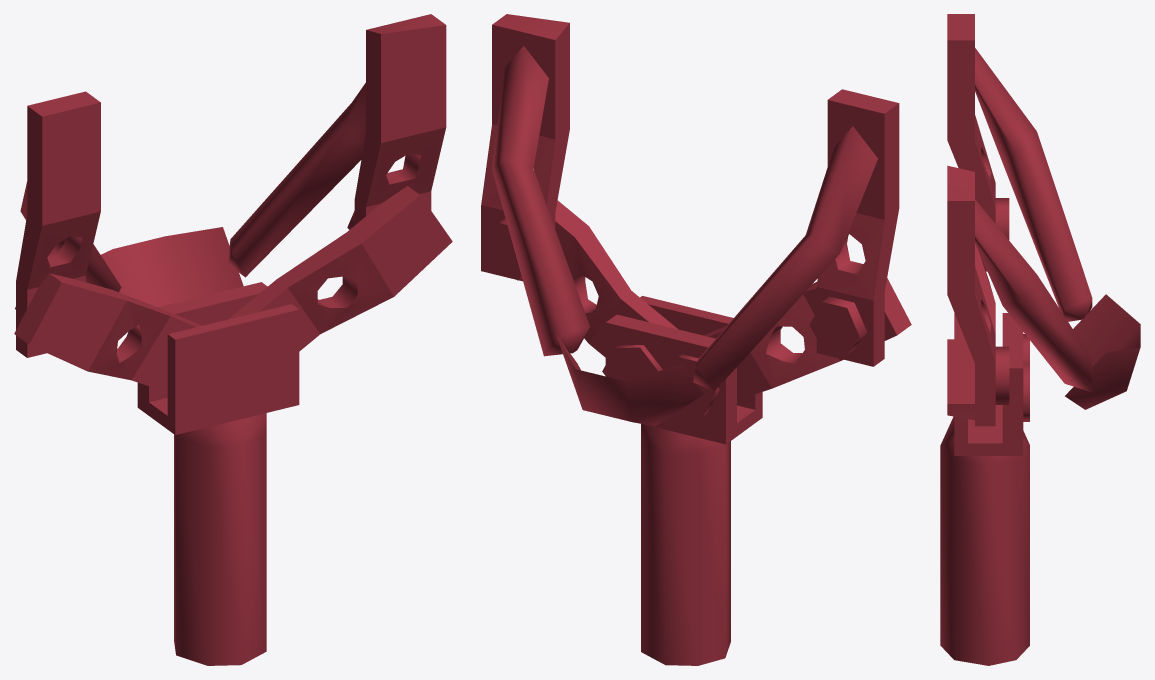
Rendered from slingshot.obj.
The picture shows the model from 3 angles, left to right: view 1: azimuth 30°, elevation 25°; view 2: azimuth 150°, elevation 25°; view 3: azimuth 270°, elevation 25°; orthographic projection. The views are drawn at different scales.
Visible parts, largest first — view 1: slingshot_Mesh_0536.002; view 2: slingshot_Mesh_0536.002; view 3: slingshot_Mesh_0536.002.
Part boxes in pixels (x1=…): slingshot_Mesh_0536.002: x1=14, y1=14, x2=452, y2=665; slingshot_Mesh_0536.002: x1=481, y1=14, x2=911, y2=665; slingshot_Mesh_0536.002: x1=940, y1=14, x2=1140, y2=665.
Bounding box in the file's own units: 1.1 × 1.47 × 0.4889.
